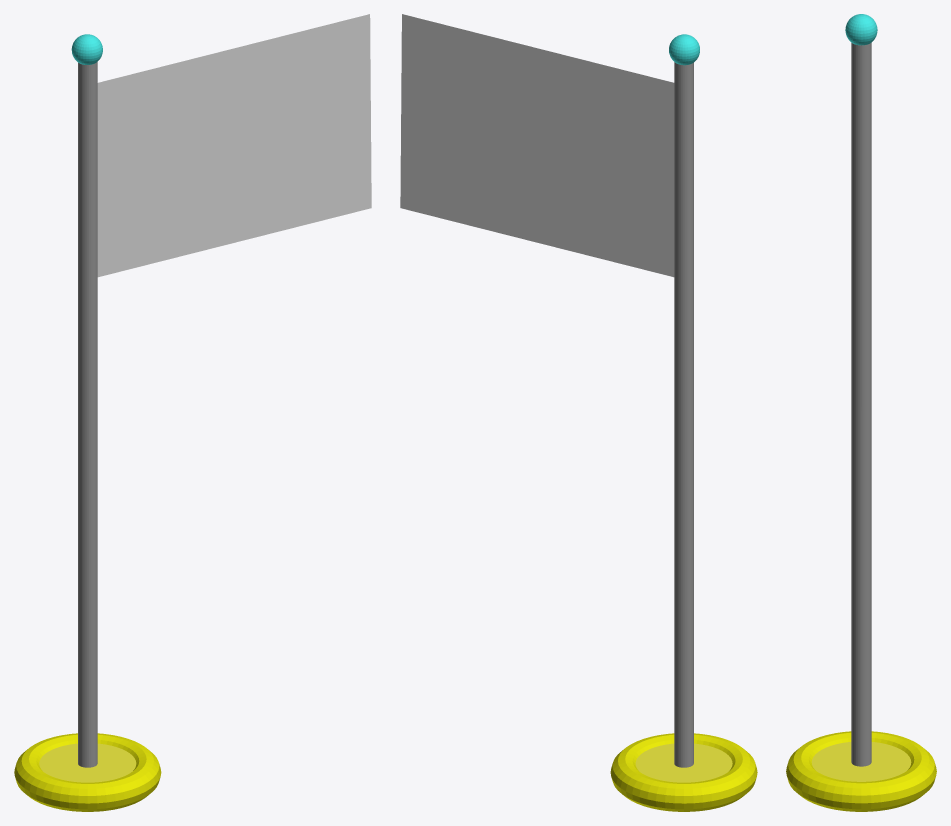
Rendered from Stage3Flag.fbx.
The picture shows the model from 3 angles, left to right: view 1: azimuth 30°, elevation 25°; view 2: azimuth 150°, elevation 25°; view 3: azimuth 270°, elevation 25°; orthographic projection. The views are drawn at different scales.
Parts seen in each view (by area): view 1: 平面, Cylinder, Torus, Cylinder.001, Sphere; view 2: 平面, Cylinder, Torus, Cylinder.001, Sphere; view 3: Cylinder, Torus, Cylinder.001, Sphere.
Boxes of the visible parts, x1,y1,x2,y2 form: 平面: (97,14,371,277); Cylinder: (78,62,97,767); Torus: (14,733,161,811); Cylinder.001: (39,743,136,782); Sphere: (71,34,102,64); 平面: (400,14,674,277); Cylinder: (674,62,693,767); Torus: (610,733,757,811); Cylinder.001: (635,743,732,782); Sphere: (669,34,699,65); Cylinder: (851,43,871,766); Torus: (786,731,936,811); Cylinder.001: (811,742,911,781); Sphere: (845,14,877,45).
Size of the model in its own units: 205 by 422 by 75.
